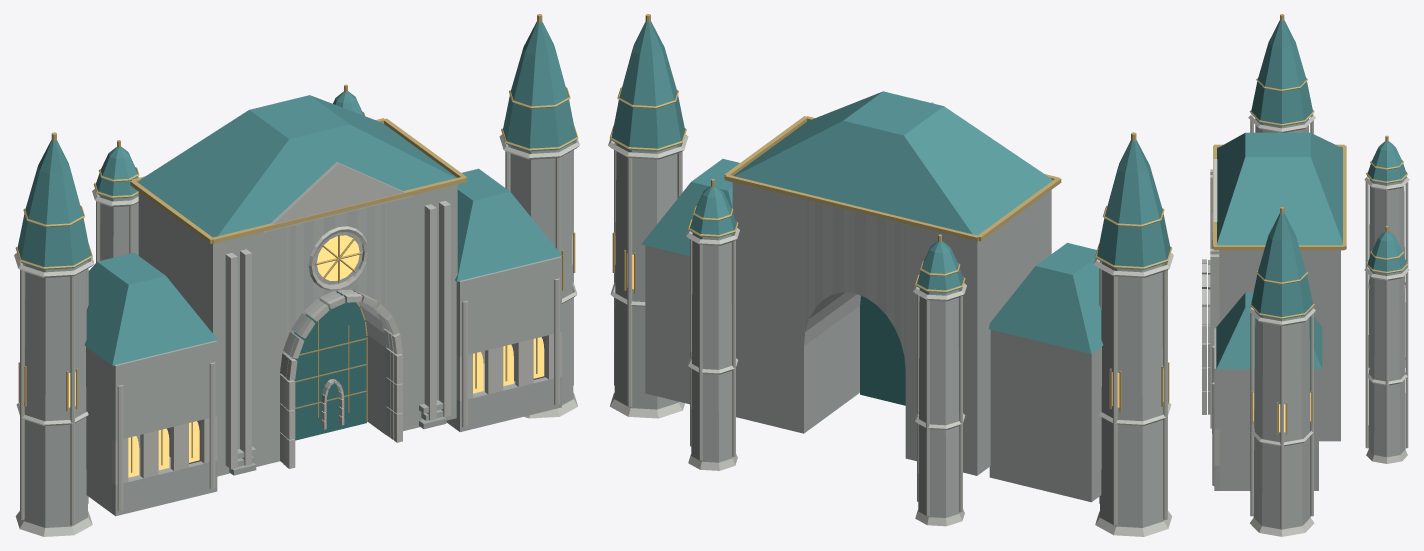
The model's file is world05-palace-v1.glb.
The picture shows the model from 3 angles, left to right: view 1: azimuth 30°, elevation 25°; view 2: azimuth 150°, elevation 25°; view 3: azimuth 270°, elevation 25°; orthographic projection. The views are drawn at different scales.
Parts seen in each view (by area): view 1: cavern-palace-shell-mesh; view 2: cavern-palace-shell-mesh; view 3: cavern-palace-shell-mesh.
Boxes of the visible parts, x1=… form: cavern-palace-shell-mesh: x1=14, y1=14, x2=579, y2=536; cavern-palace-shell-mesh: x1=608, y1=14, x2=1173, y2=536; cavern-palace-shell-mesh: x1=1202, y1=14, x2=1409, y2=536.
Size of the model in its own units: 28.49 by 18.9 by 11.29.
